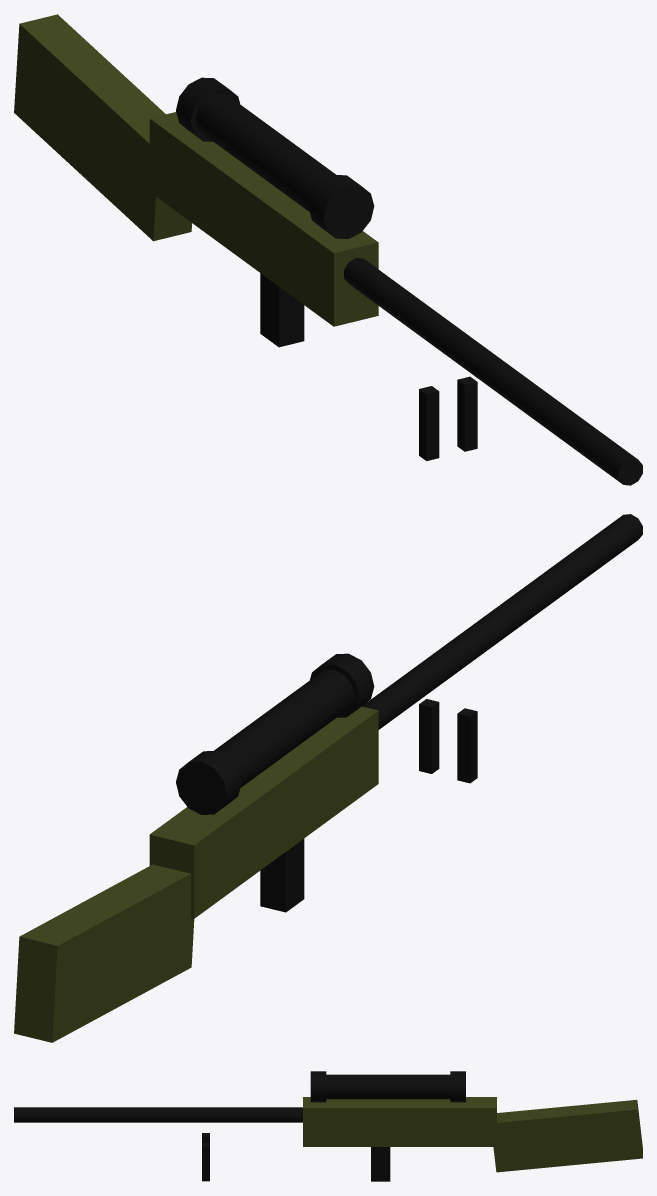
File: sniper.glb
3 views of the same model, one above another, from view 1: azimuth 30°, elevation 25°; view 2: azimuth 150°, elevation 25°; view 3: azimuth 270°, elevation 25° (orthographic). The views are drawn at different scales.
Parts seen in each view (by area): view 1: sniper; view 2: sniper; view 3: sniper.
Part boxes in pixels (x1,y1,x2,y2): sniper: [14, 14, 642, 485]; sniper: [14, 514, 642, 1042]; sniper: [14, 1071, 642, 1181].
Size of the model in its own units: 0.08 by 0.3 by 1.62.
